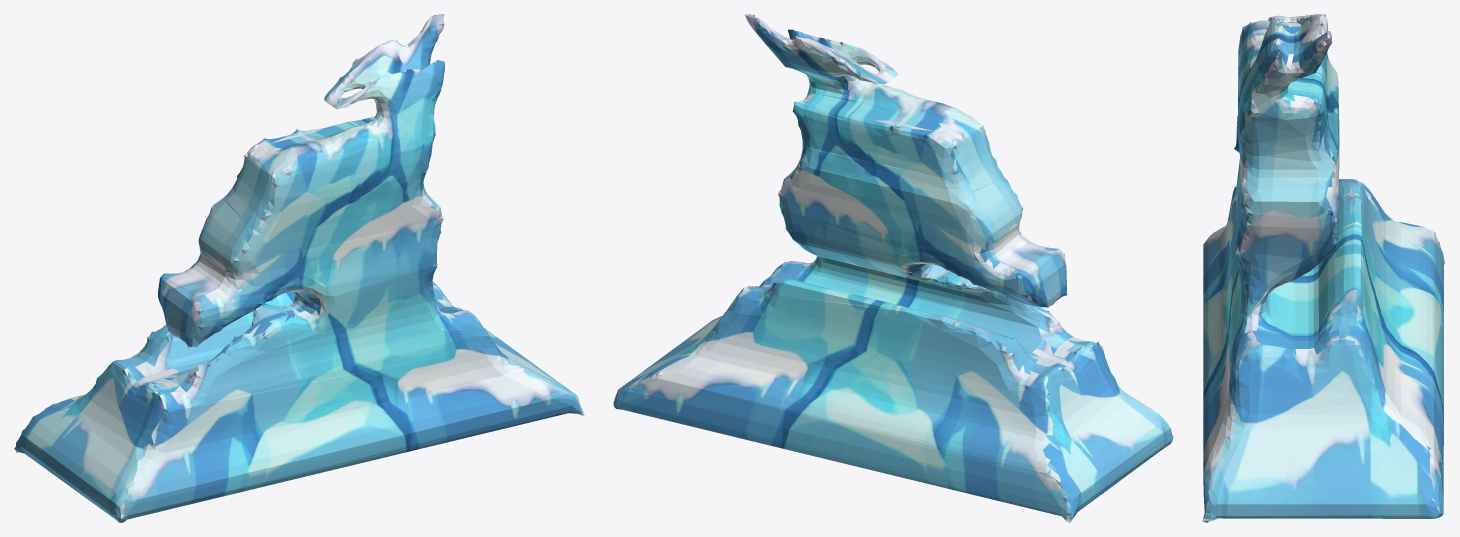
The model's file is landmark_glacier.glb.
The picture shows the model from 3 angles, left to right: view 1: azimuth 30°, elevation 25°; view 2: azimuth 150°, elevation 25°; view 3: azimuth 270°, elevation 25°; orthographic projection. The views are drawn at different scales.
Visible parts, largest first — view 1: landmark_glacier; view 2: landmark_glacier; view 3: landmark_glacier.
Boxes of the visible parts, x1,y1,x2,y2 form: landmark_glacier: (14, 14, 584, 522); landmark_glacier: (613, 14, 1173, 522); landmark_glacier: (1202, 14, 1445, 522).
Size of the model in its own units: 62.77 by 49.49 by 24.8.
Materials: 1 (1 with a texture image).
